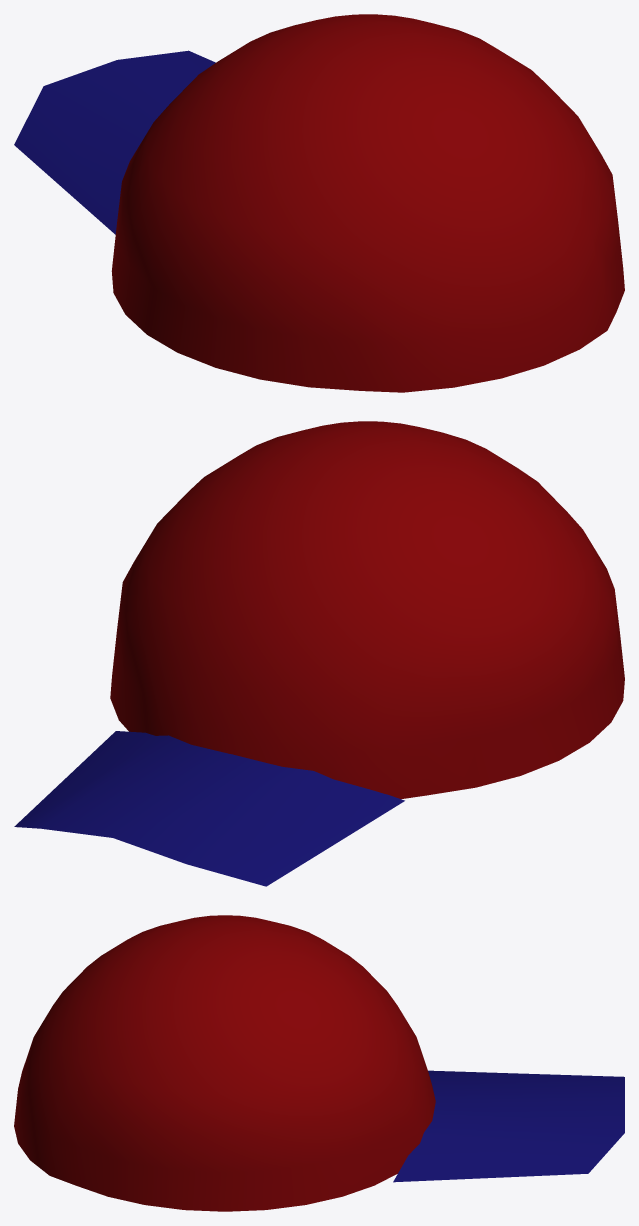
File: cap.gltf
3 views of the same model, one above another, from view 1: azimuth 30°, elevation 25°; view 2: azimuth 150°, elevation 25°; view 3: azimuth 270°, elevation 25° (orthographic). The views are drawn at different scales.
Parts seen in each view (by area): view 1: Sphere, Plane; view 2: Sphere, Plane; view 3: Sphere, Plane.
Part boxes in pixels (x1,y1,x2,y2): Sphere: (111,14,624,392); Plane: (14,50,215,234); Sphere: (110,421,624,799); Plane: (14,731,404,886); Sphere: (14,915,435,1211); Plane: (393,1070,624,1182).
Bounding box in the file's own units: 4.38 × 2.29 × 6.62.
